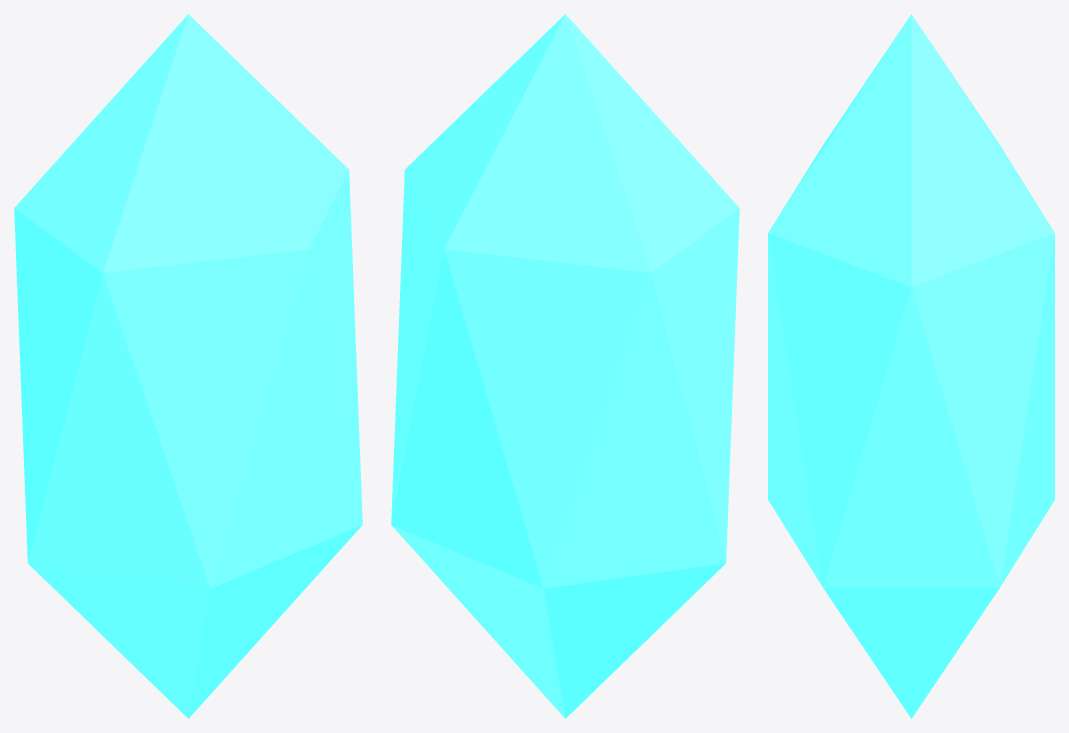
The model's file is spark.glb.
3 views of the same model, side by side, from view 1: azimuth 30°, elevation 25°; view 2: azimuth 150°, elevation 25°; view 3: azimuth 270°, elevation 25° (orthographic).
Parts seen in each view (by area): view 1: Angular energy fragment; view 2: Angular energy fragment; view 3: Angular energy fragment.
Part boxes in pixels (box(x1,y1,x2,y2)): Angular energy fragment: box(14, 14, 362, 718); Angular energy fragment: box(391, 14, 739, 718); Angular energy fragment: box(768, 14, 1054, 718).
Size of the model in its own units: 0.2147 by 0.45 by 0.1659.
